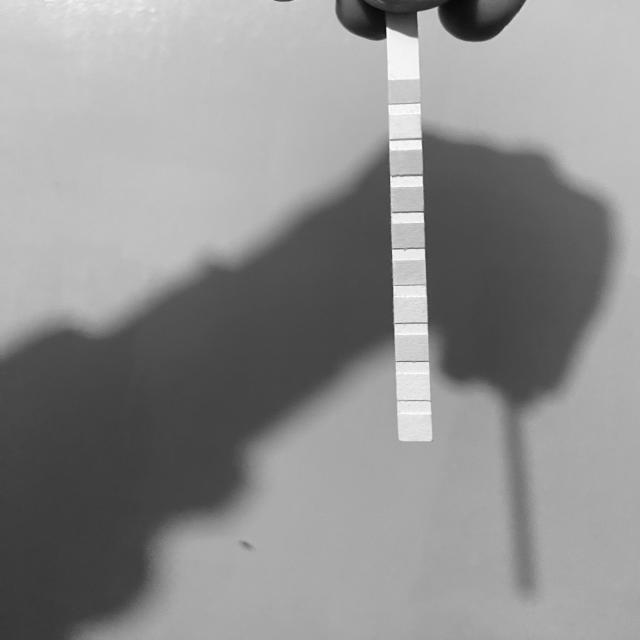Bilirubin: (390, 116, 420, 139)
Blood: (392, 223, 425, 248)
Glucose: (389, 80, 420, 102)
Ketone: (391, 152, 423, 174)
Leukocytes: (398, 414, 432, 441)
Nitrite: (396, 374, 429, 400)
Protein: (394, 298, 426, 323)
SpGravity: (392, 188, 424, 212)
Urobilinogen: (395, 335, 428, 361)
background: (0, 0, 640, 640)
pH: (393, 260, 426, 286)
strip: (388, 30, 434, 442)
